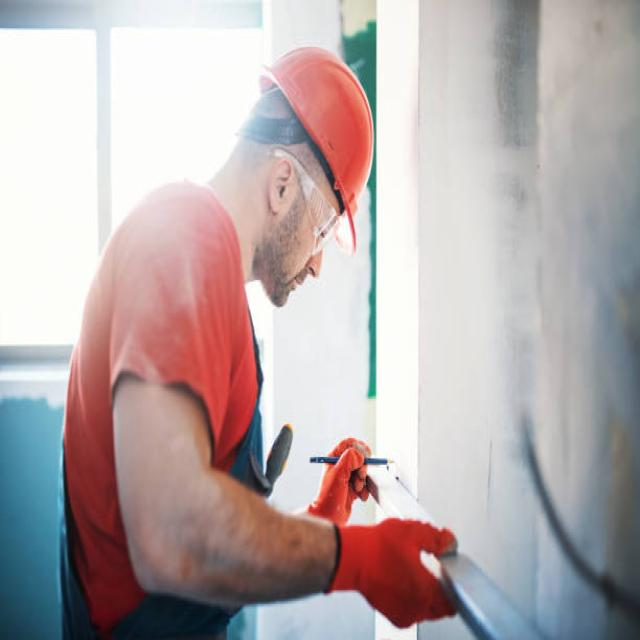Gloves: (329, 513, 469, 630), (297, 424, 393, 542)
helmet: (258, 44, 375, 262)
person: (57, 40, 460, 640)
